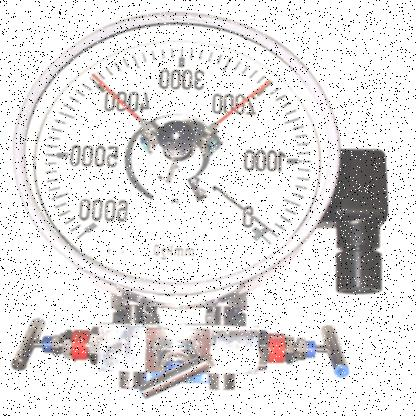needle: (217, 79, 271, 124)
